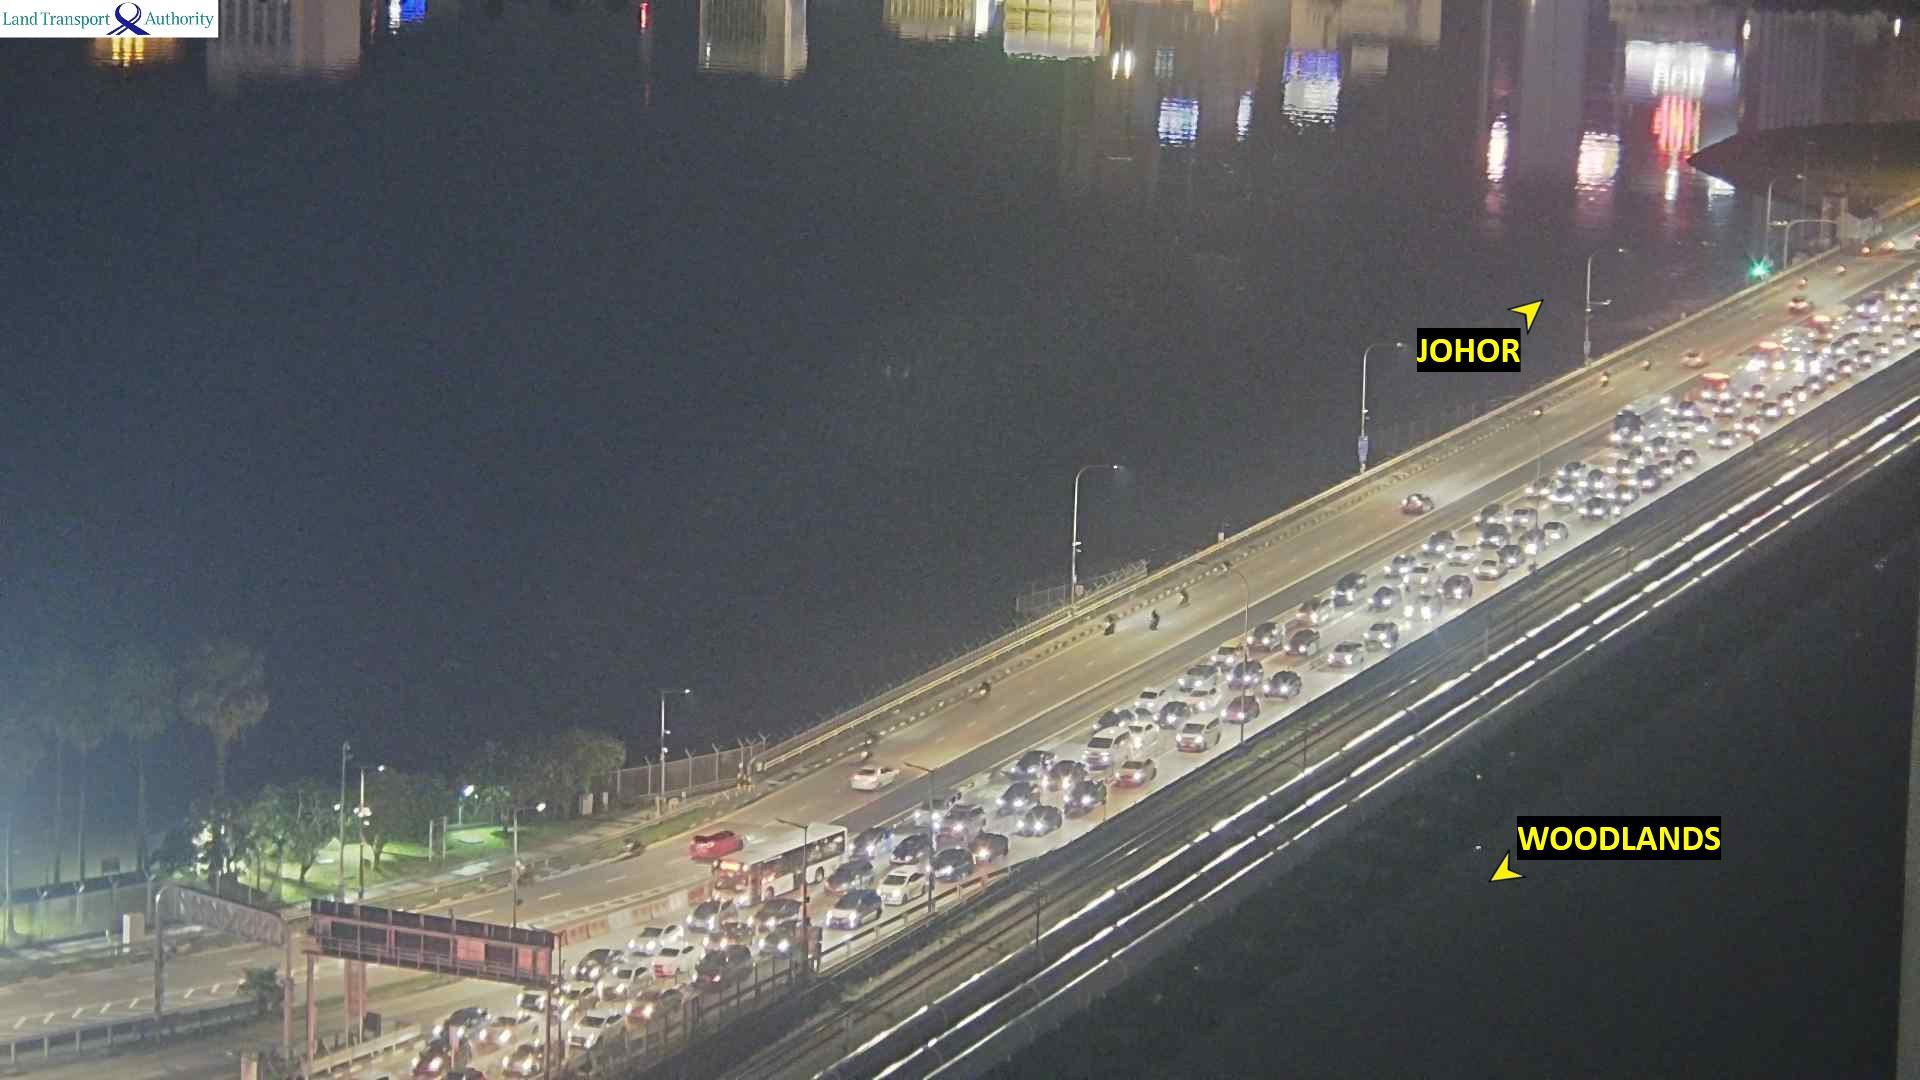vehicle-causeway-johor: (693, 828, 750, 854), (849, 768, 899, 790), (1402, 492, 1433, 515), (619, 835, 645, 860), (854, 734, 877, 760), (973, 680, 990, 702), (1683, 350, 1702, 369), (1101, 613, 1116, 637), (1791, 294, 1813, 310), (1173, 585, 1188, 607), (1597, 371, 1610, 388), (1147, 610, 1157, 630), (1798, 273, 1812, 287), (1640, 358, 1653, 373), (1834, 263, 1846, 276), (1862, 242, 1872, 255), (1536, 406, 1545, 416)
vehicle-causeway-singapore: (711, 826, 855, 896), (1614, 396, 1673, 446), (693, 947, 748, 986), (569, 1010, 625, 1047), (829, 891, 883, 927), (411, 1040, 468, 1074), (626, 985, 680, 1020), (1086, 724, 1129, 766), (434, 1008, 491, 1039), (937, 802, 986, 837), (757, 921, 802, 959), (504, 1041, 551, 1077), (599, 965, 653, 996), (482, 1013, 537, 1043), (825, 861, 871, 895), (914, 791, 966, 821), (630, 923, 681, 952), (750, 898, 801, 927), (881, 869, 925, 902), (1010, 749, 1059, 778), (653, 943, 700, 973), (1064, 780, 1104, 814), (574, 949, 622, 977), (1009, 814, 1061, 838), (1045, 758, 1084, 790), (689, 901, 732, 930), (998, 785, 1043, 812), (1171, 726, 1218, 750), (931, 851, 971, 879), (705, 925, 753, 948), (1114, 762, 1159, 786), (854, 828, 892, 856), (891, 836, 929, 864), (1096, 708, 1136, 731), (1248, 620, 1282, 647), (1261, 672, 1304, 693), (1334, 575, 1363, 604), (1696, 371, 1732, 394), (1366, 622, 1398, 647), (1177, 668, 1215, 689), (1470, 565, 1514, 583), (1155, 701, 1188, 725), (1420, 530, 1451, 555), (974, 838, 1009, 860), (1226, 695, 1259, 718), (1135, 688, 1166, 712), (1232, 662, 1263, 686), (1437, 579, 1474, 599), (1328, 645, 1363, 666), (1213, 643, 1245, 665), (1288, 631, 1319, 653), (1405, 597, 1436, 619), (1300, 599, 1330, 621), (1379, 555, 1414, 573), (1441, 545, 1471, 566), (1189, 686, 1220, 706), (1756, 401, 1785, 422), (1605, 484, 1635, 504), (1753, 352, 1783, 372), (1633, 467, 1659, 490), (1507, 508, 1538, 527), (1404, 566, 1432, 587), (1476, 504, 1503, 525), (1128, 722, 1157, 741), (1734, 414, 1759, 436), (1481, 531, 1508, 551), (1369, 589, 1397, 608), (1559, 462, 1588, 480), (1603, 458, 1632, 476), (1476, 558, 1502, 578), (1528, 480, 1555, 498), (1773, 390, 1796, 411), (1554, 488, 1582, 505), (1823, 343, 1848, 361), (1707, 432, 1733, 449), (1891, 302, 1920, 317), (1713, 397, 1737, 415), (1582, 474, 1607, 491), (1665, 426, 1690, 443), (1523, 534, 1545, 553), (1885, 335, 1907, 354), (1544, 523, 1567, 541), (1647, 439, 1669, 457), (1793, 358, 1819, 373), (1851, 349, 1869, 370), (1500, 548, 1522, 565), (1857, 298, 1881, 313), (1887, 289, 1912, 303), (1583, 503, 1606, 518), (1789, 384, 1807, 403), (1833, 361, 1851, 380), (1745, 384, 1768, 398), (1684, 417, 1708, 430), (1819, 370, 1836, 388), (1674, 402, 1693, 417), (1805, 377, 1821, 393), (1656, 463, 1674, 477), (1870, 344, 1885, 360), (1680, 449, 1696, 463), (1882, 315, 1904, 325), (1868, 321, 1877, 340), (1911, 326, 1920, 342)
